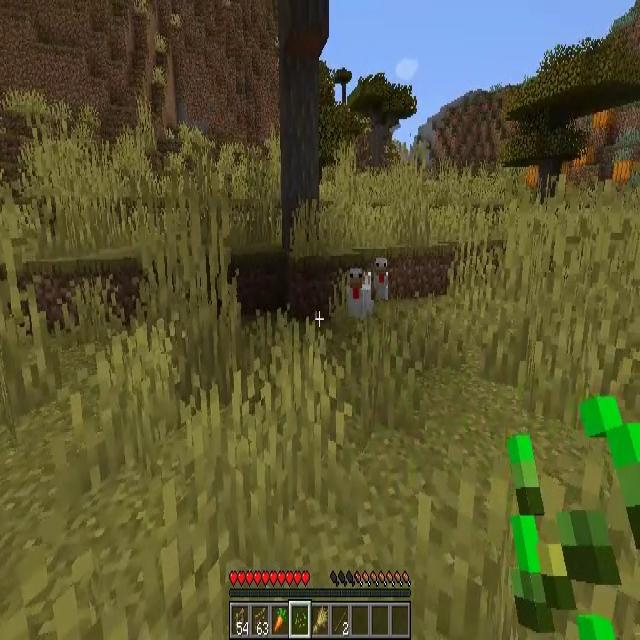duck: (346, 270, 372, 321), (371, 258, 388, 300)
